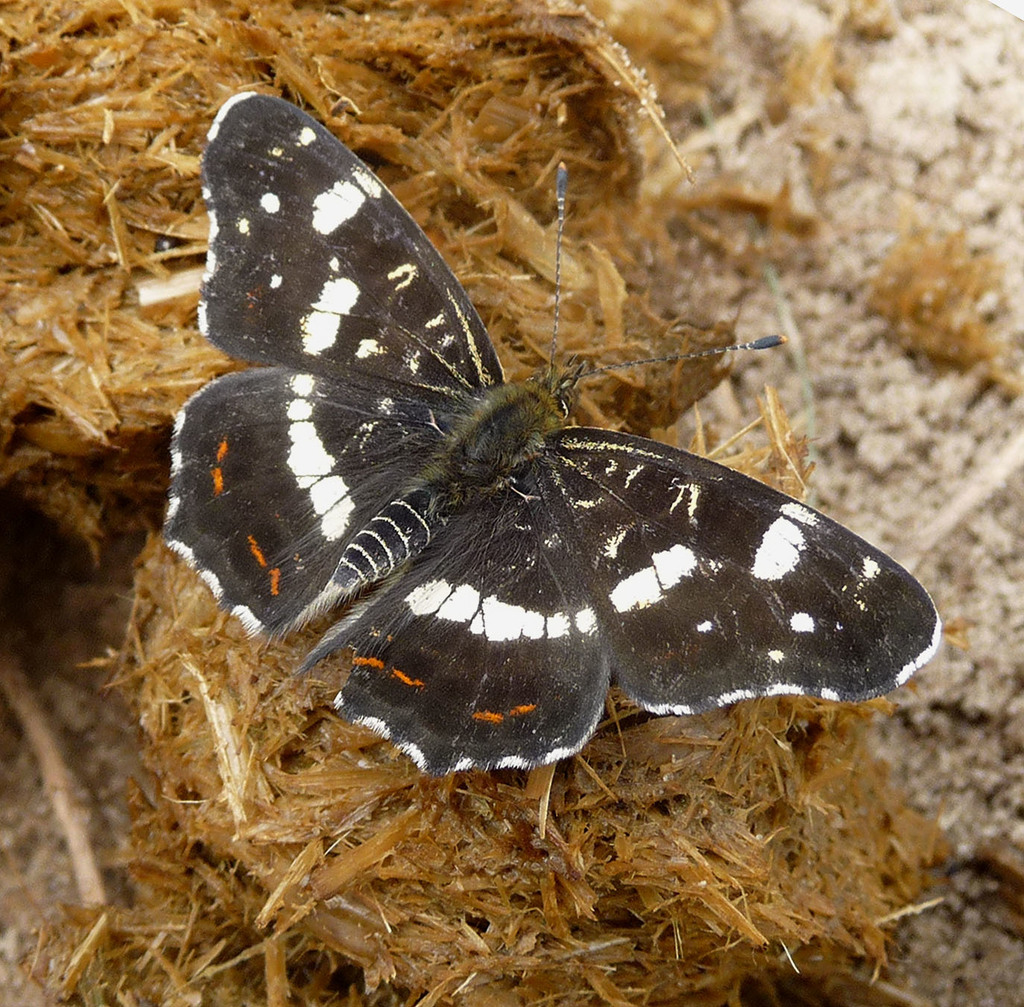Butterfly: (134, 86, 948, 794)
